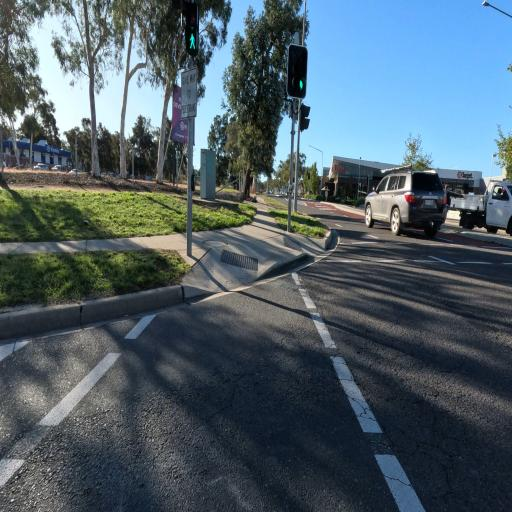kerb_cut: (213, 253, 258, 297)
